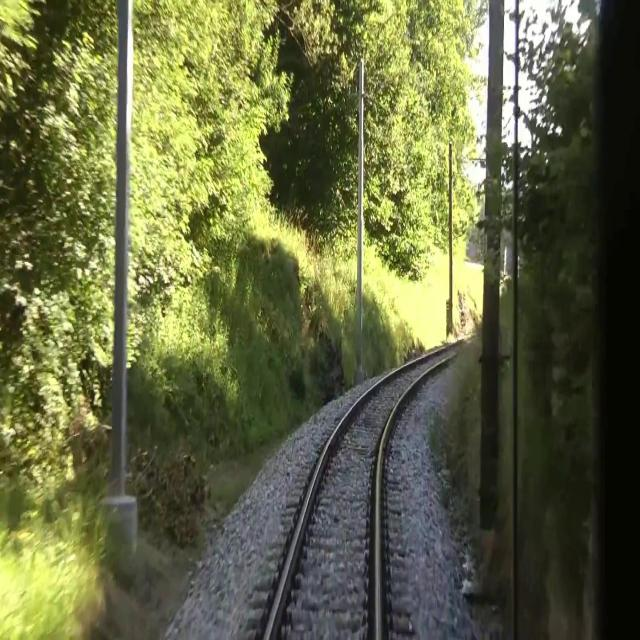rail-track: (269, 340, 464, 639)
